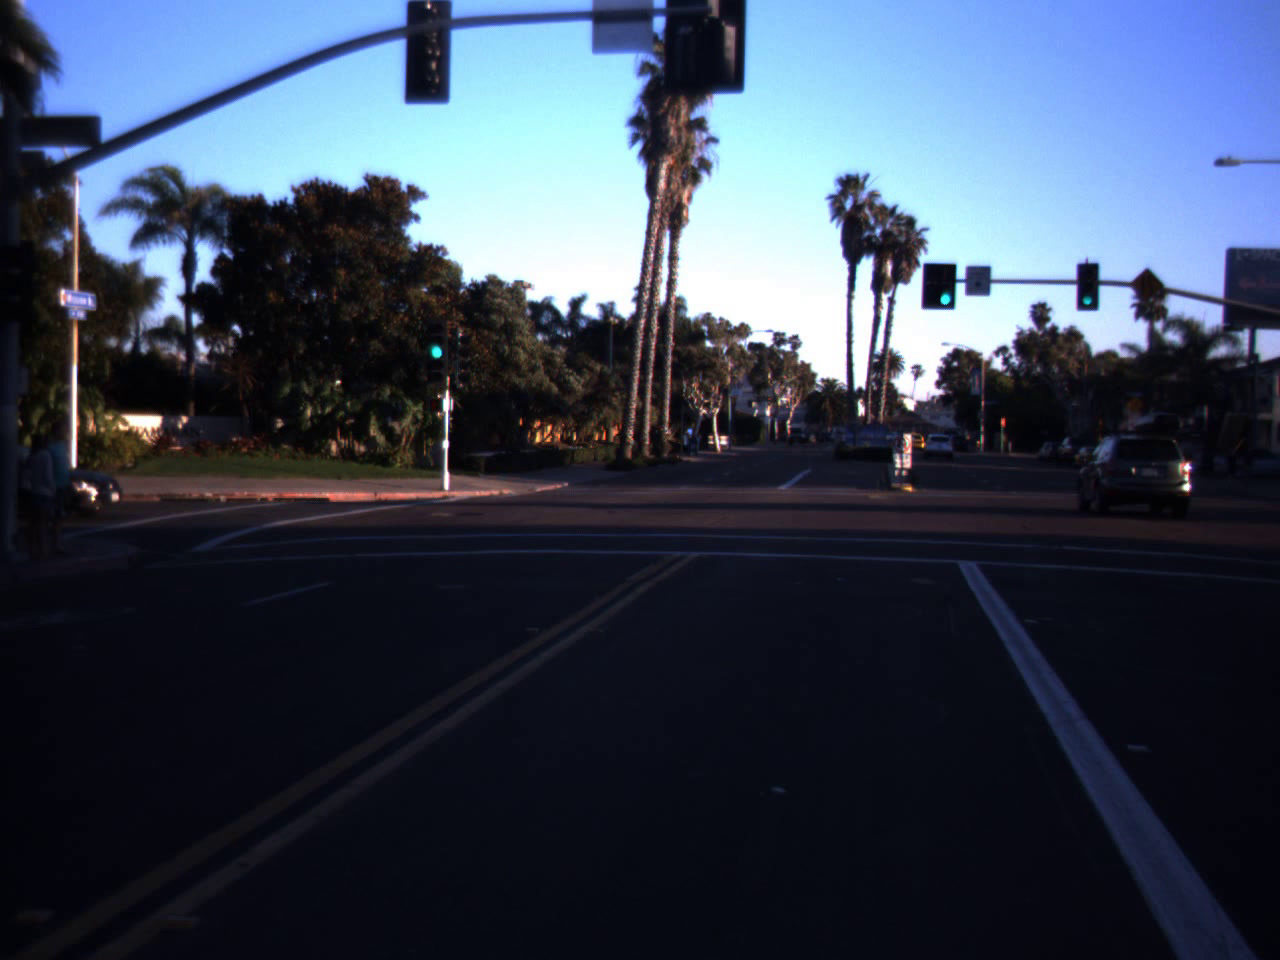go: (423, 312, 450, 362), (932, 263, 959, 308), (1080, 281, 1095, 306)
